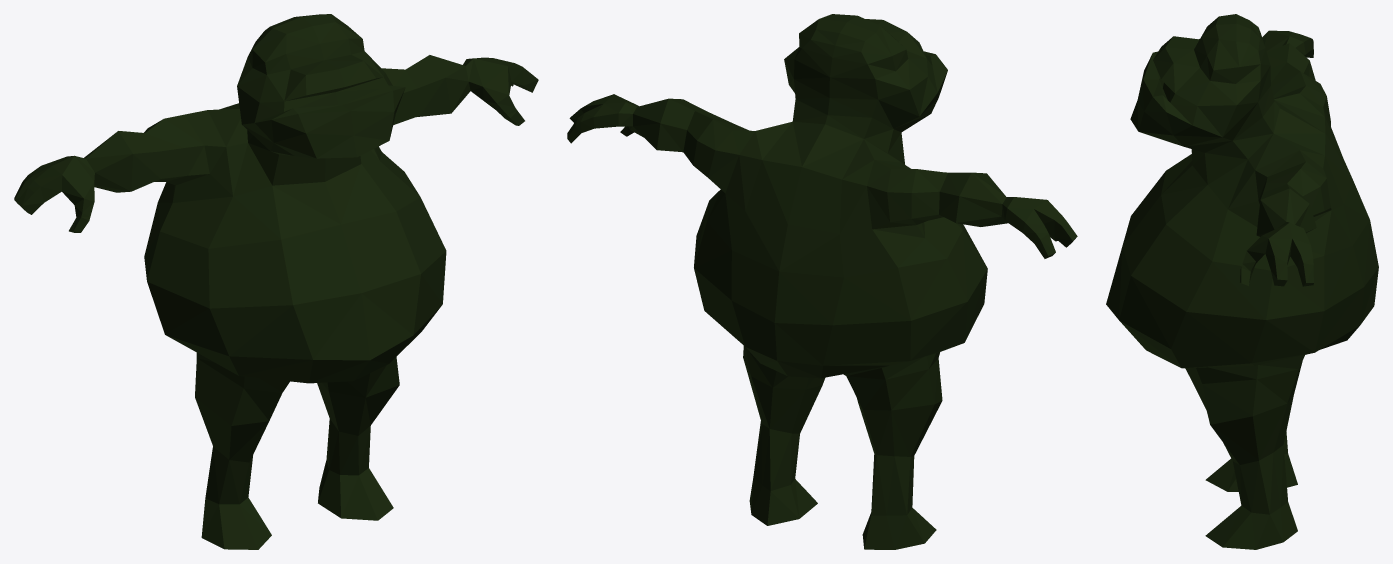
File: Troll_v004.fbx
3 renders of one model, left to right at view 1: azimuth 30°, elevation 25°; view 2: azimuth 150°, elevation 25°; view 3: azimuth 270°, elevation 25°, orthographic. The views are drawn at different scales.
Parts seen in each view (by area): view 1: geo_Troll2; view 2: geo_Troll2; view 3: geo_Troll2.
Part boxes in pixels (x1,y1,x2,y2): geo_Troll2: (14,14,538,549); geo_Troll2: (567,14,1077,549); geo_Troll2: (1106,14,1378,549).
Size of the model in its own units: 199 by 186 by 94.92.
